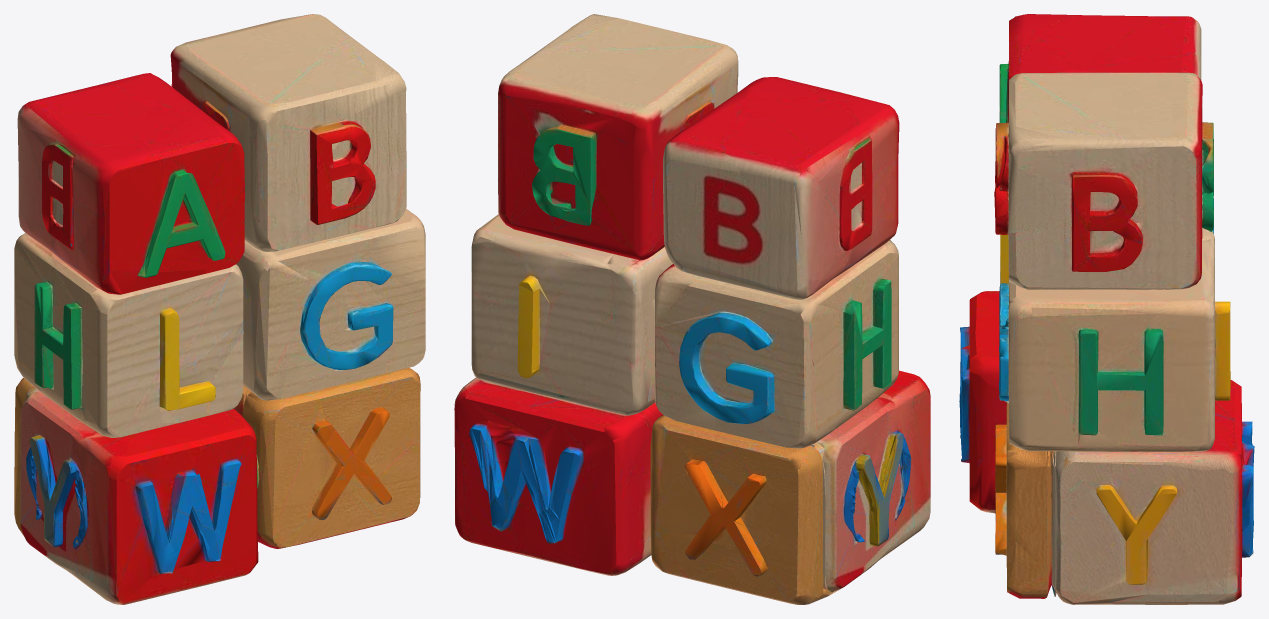
The model's file is blocks.glb.
The picture shows the model from 3 angles, left to right: view 1: azimuth 30°, elevation 25°; view 2: azimuth 150°, elevation 25°; view 3: azimuth 270°, elevation 25°; orthographic projection. The views are drawn at different scales.
Bounding box in the file's own units: 1.59 × 1.9 × 1.12.
1 material, 1 textured.
